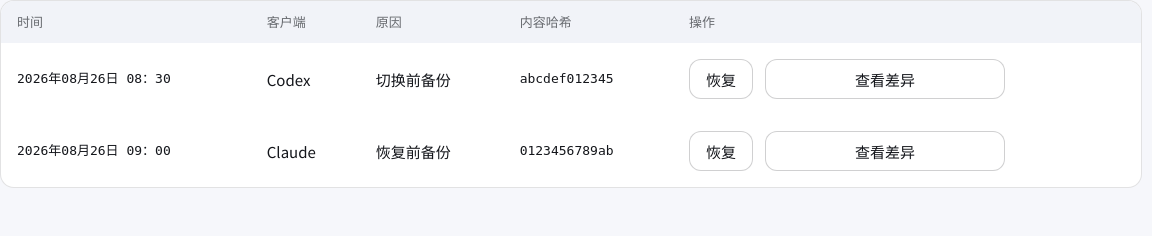
Test: BackupHistory › reports when a backup matches the live file
Click the button "查看差异" in the row of "2026年08月26日 09：00".
click(885, 151)  # box [765,131,1005,171]
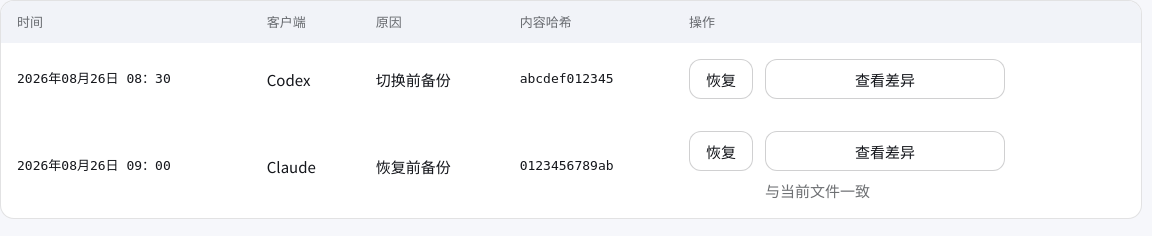
Check: the text "与当前文件一致" is shown, box [765,180,870,201]
